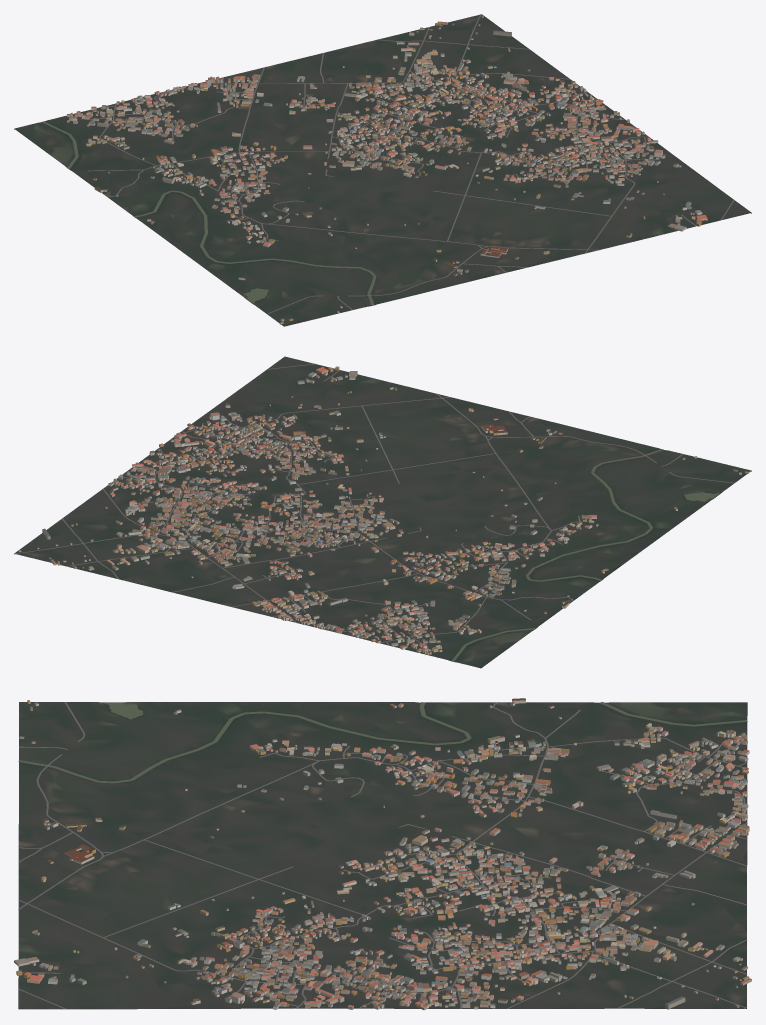
3 views of the same model, one above another, from view 1: azimuth 30°, elevation 25°; view 2: azimuth 150°, elevation 25°; view 3: azimuth 270°, elevation 25° (orthographic). The views are drawn at different scales.
Visible parts, largest first — view 1: ground, buildings, roads, water; view 2: ground, buildings, roads, water; view 3: ground, buildings, roads, water.
Boxes of the visible parts, x1=… form: ground: x1=14, y1=14, x2=751, y2=326; buildings: x1=67, y1=15, x2=707, y2=324; roads: x1=80, y1=14, x2=734, y2=314; water: x1=41, y1=121, x2=376, y2=305; ground: x1=14, y1=356, x2=751, y2=668; buildings: x1=18, y1=366, x2=749, y2=654; roads: x1=15, y1=363, x2=734, y2=648; water: x1=451, y1=449, x2=719, y2=661; ground: x1=18, y1=702, x2=747, y2=1009; buildings: x1=14, y1=698, x2=751, y2=1010; roads: x1=18, y1=702, x2=747, y2=1009; water: x1=18, y1=702, x2=747, y2=783.
Bounding box in the file's own units: 1410 × 18.15 × 1420.
